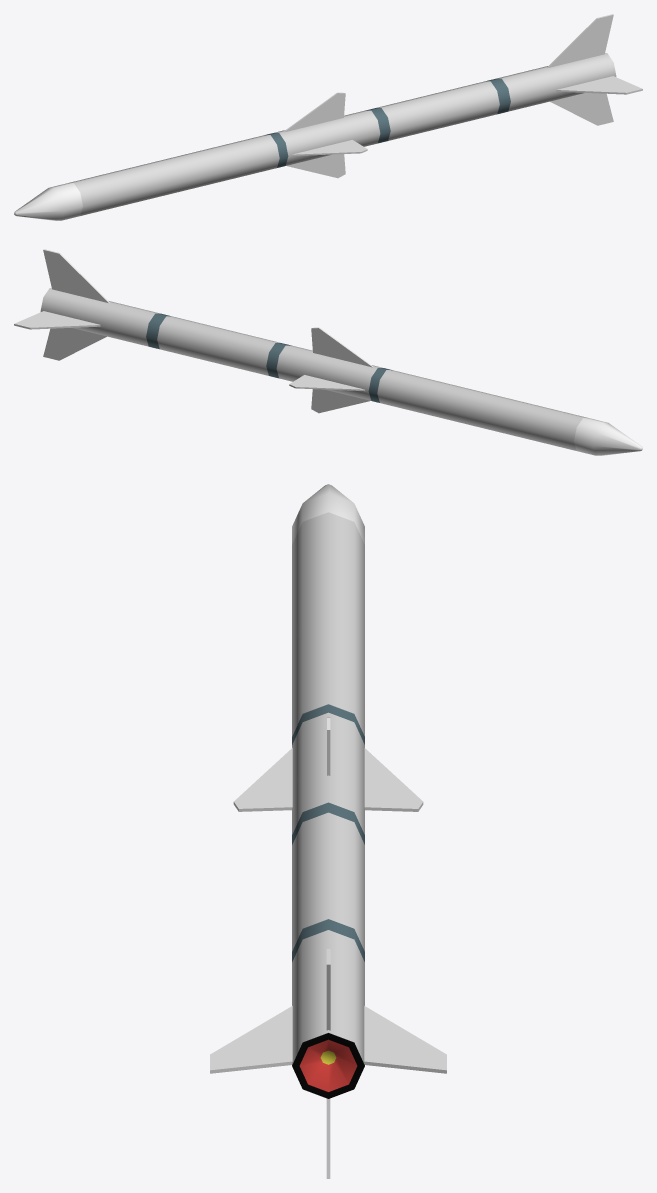
File: AIM-120-Amraam.fbx
The picture shows the model from 3 angles, top to bottom: view 1: azimuth 30°, elevation 25°; view 2: azimuth 150°, elevation 25°; view 3: azimuth 270°, elevation 25°; orthographic projection. The views are drawn at different scales.
Visible parts, largest first — view 1: AIM-120 Amraam.001, RearFin.002, RearFin, FrontFin.001, RearFin.001, FrontFin.003, FrontFin; view 2: AIM-120 Amraam.001, RearFin.002, RearFin, FrontFin.001, RearFin.003, FrontFin.003, FrontFin.002; view 3: AIM-120 Amraam.001, RearFin.001, RearFin.003, FrontFin.002, FrontFin.
Boxes of the visible parts, x1,y1,x2,y2 form: AIM-120 Amraam.001: [14, 53, 616, 220]; RearFin.002: [547, 14, 613, 67]; RearFin: [550, 93, 613, 125]; FrontFin.001: [283, 92, 345, 132]; RearFin.001: [556, 76, 642, 94]; FrontFin.003: [286, 154, 345, 178]; FrontFin: [292, 140, 367, 155]; AIM-120 Amraam.001: [40, 288, 642, 455]; RearFin.002: [43, 249, 109, 302]; RearFin: [43, 328, 106, 360]; FrontFin.001: [311, 327, 373, 367]; RearFin.003: [14, 311, 100, 329]; FrontFin.003: [311, 389, 370, 413]; FrontFin.002: [289, 375, 365, 391]; AIM-120 Amraam.001: [292, 484, 364, 1098]; RearFin.001: [210, 1006, 292, 1073]; RearFin.003: [364, 1006, 446, 1073]; FrontFin.002: [364, 748, 423, 811]; FrontFin: [233, 748, 292, 811].
Bounding box in the file's own units: 363 × 62.02 × 62.18.
